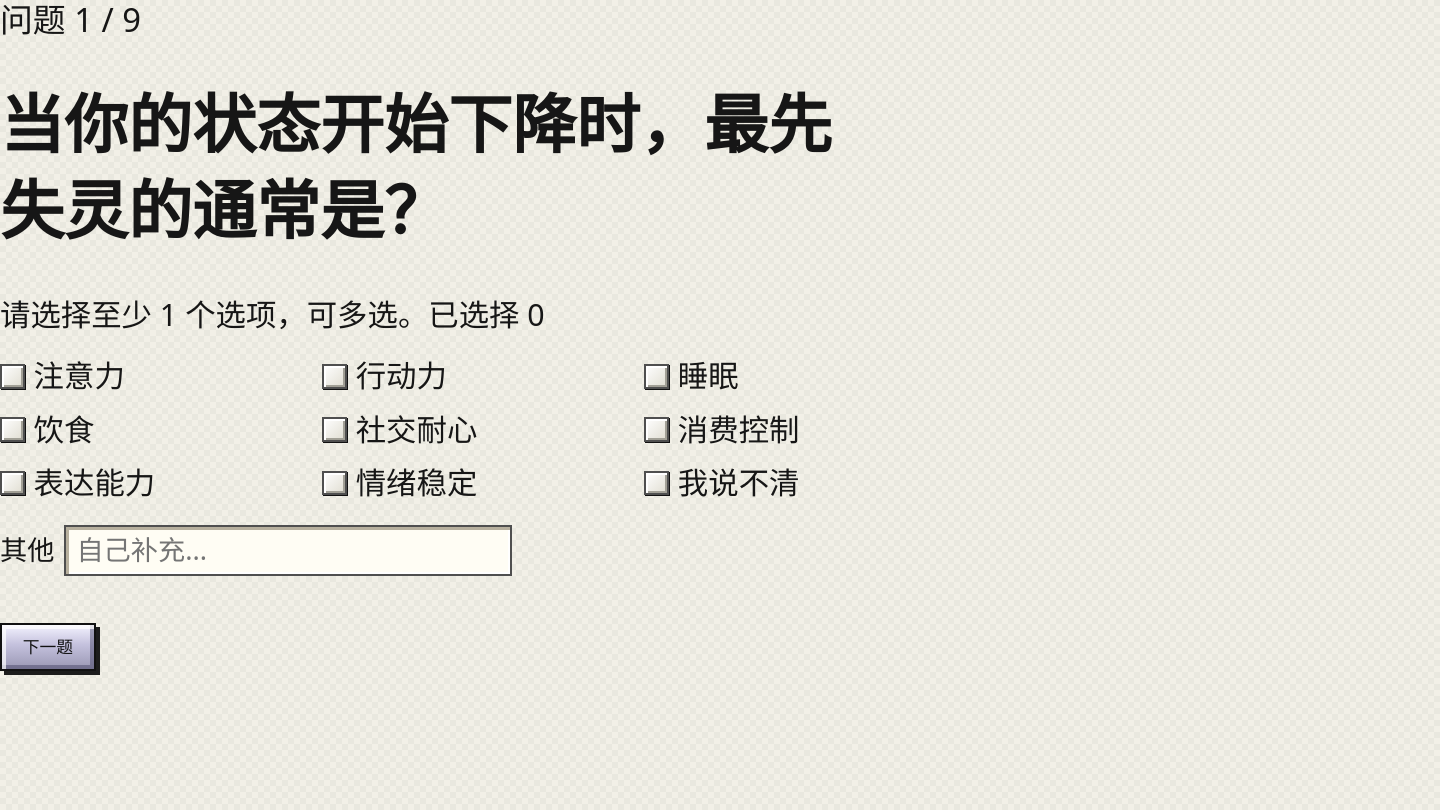
OnboardingFlow › supports moving forward and returning while preserving selected answers
Expected: the heading "当你的状态开始下降时，最先失灵的通常是？" is shown, 0,81 -> 832,252
Click the button "下一题" at (48, 648), box 0,624 -> 96,672
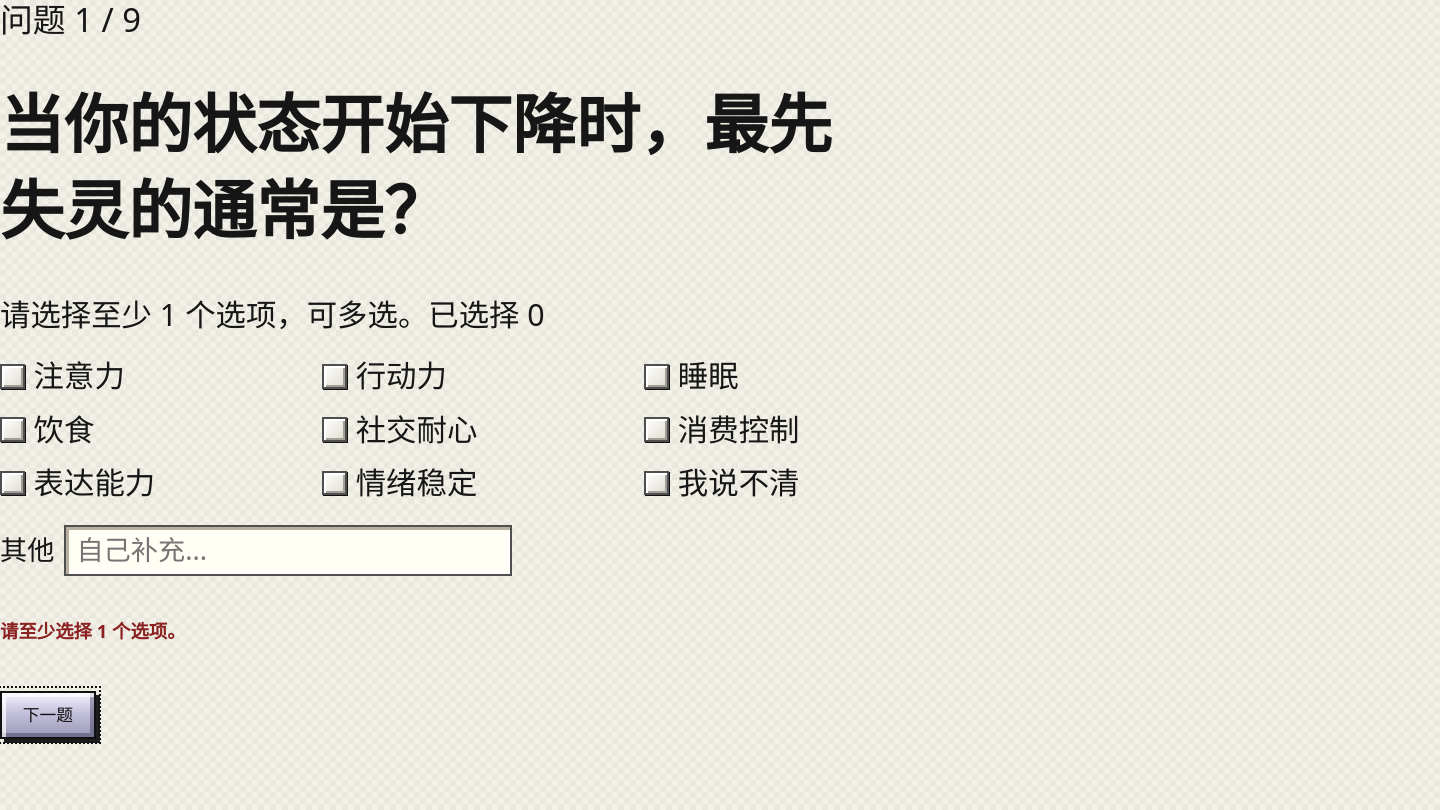
Expected: the text "请至少选择 1 个选项。" is shown, 0,618 -> 186,643
Click the checkbox labelled "注意力" at (12, 376), box 0,364 -> 25,389
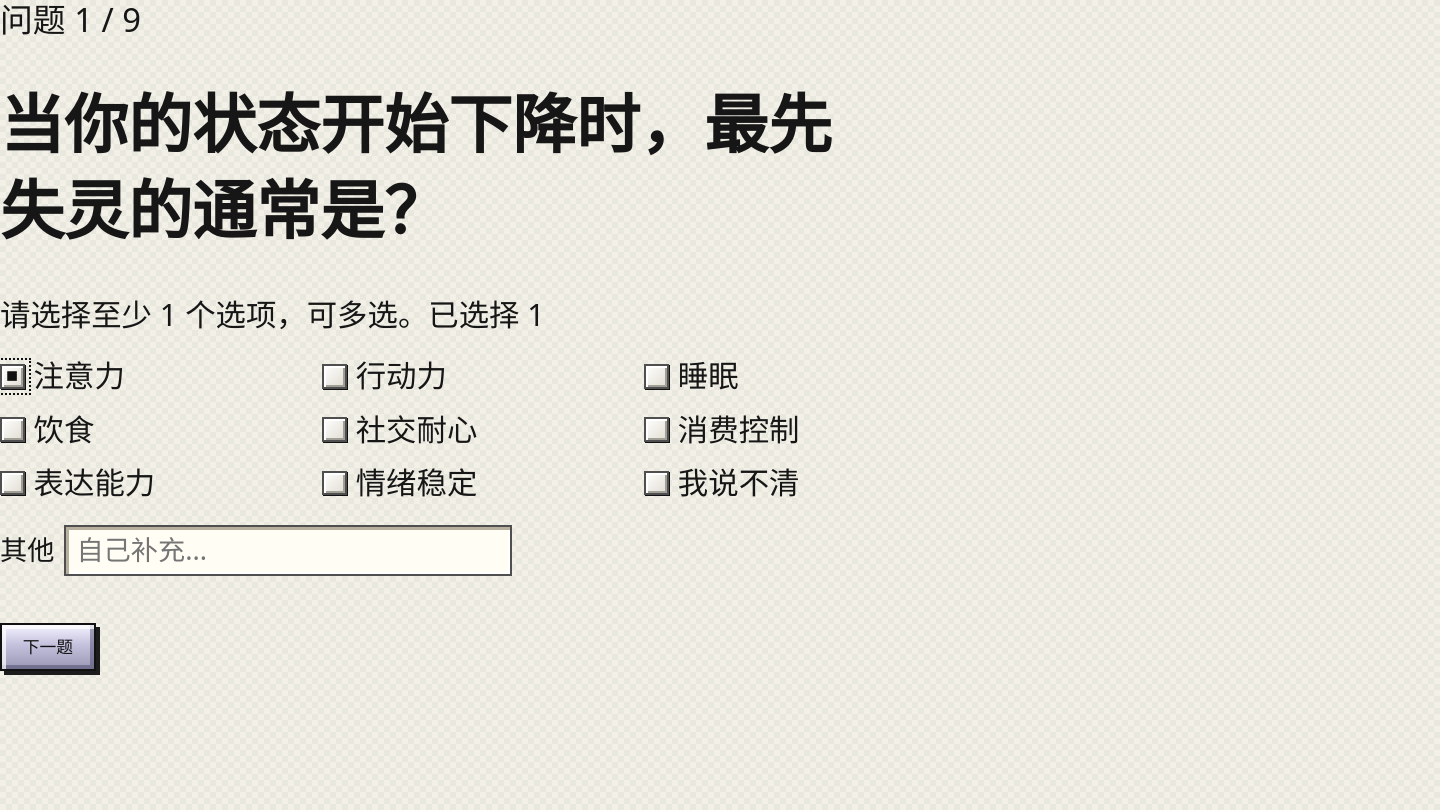
Click the button "下一题" at (48, 648), box 0,624 -> 96,672
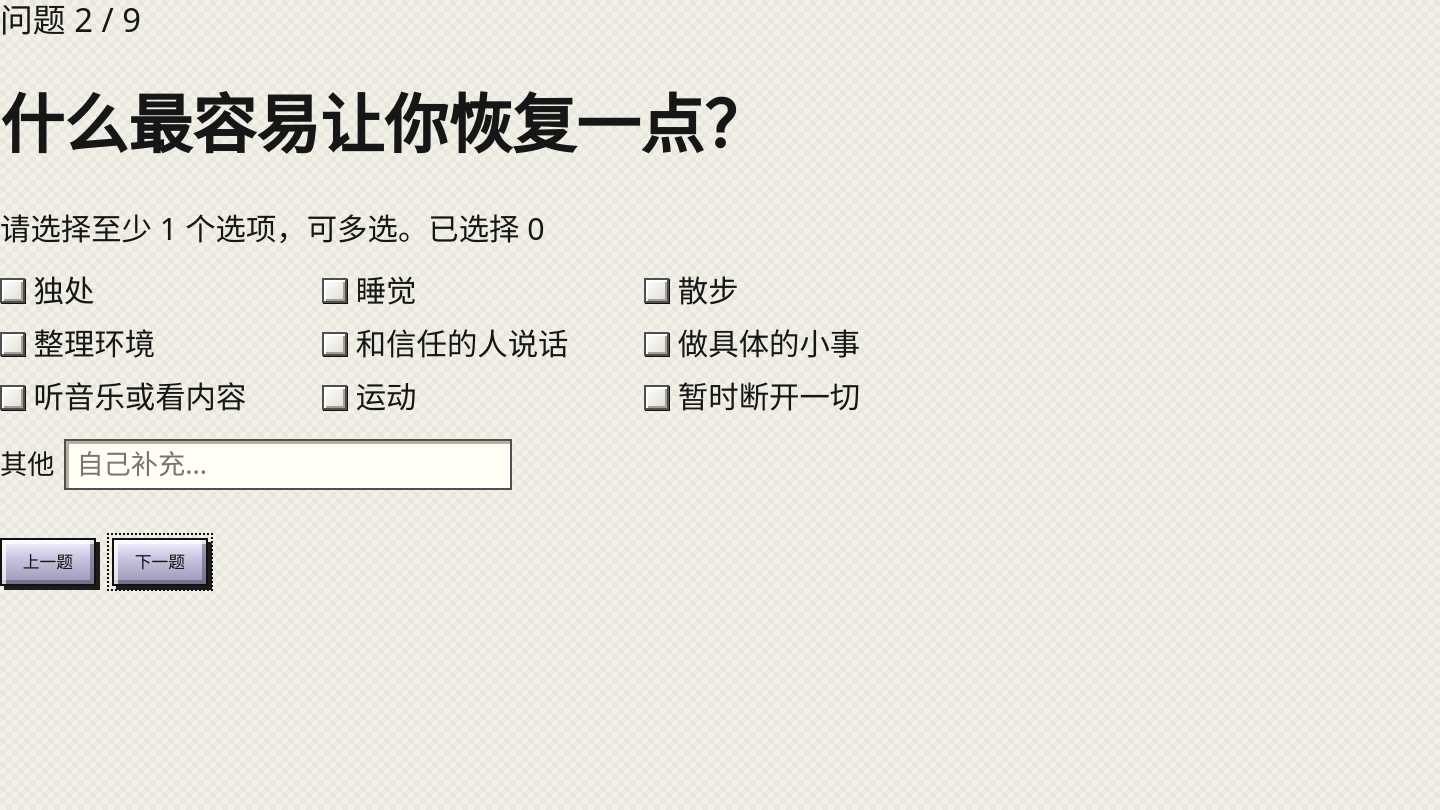
Expected: the heading "什么最容易让你恢复一点？" is shown, 0,81 -> 832,167
Click the button "上一题" at (48, 562), box 0,538 -> 96,586
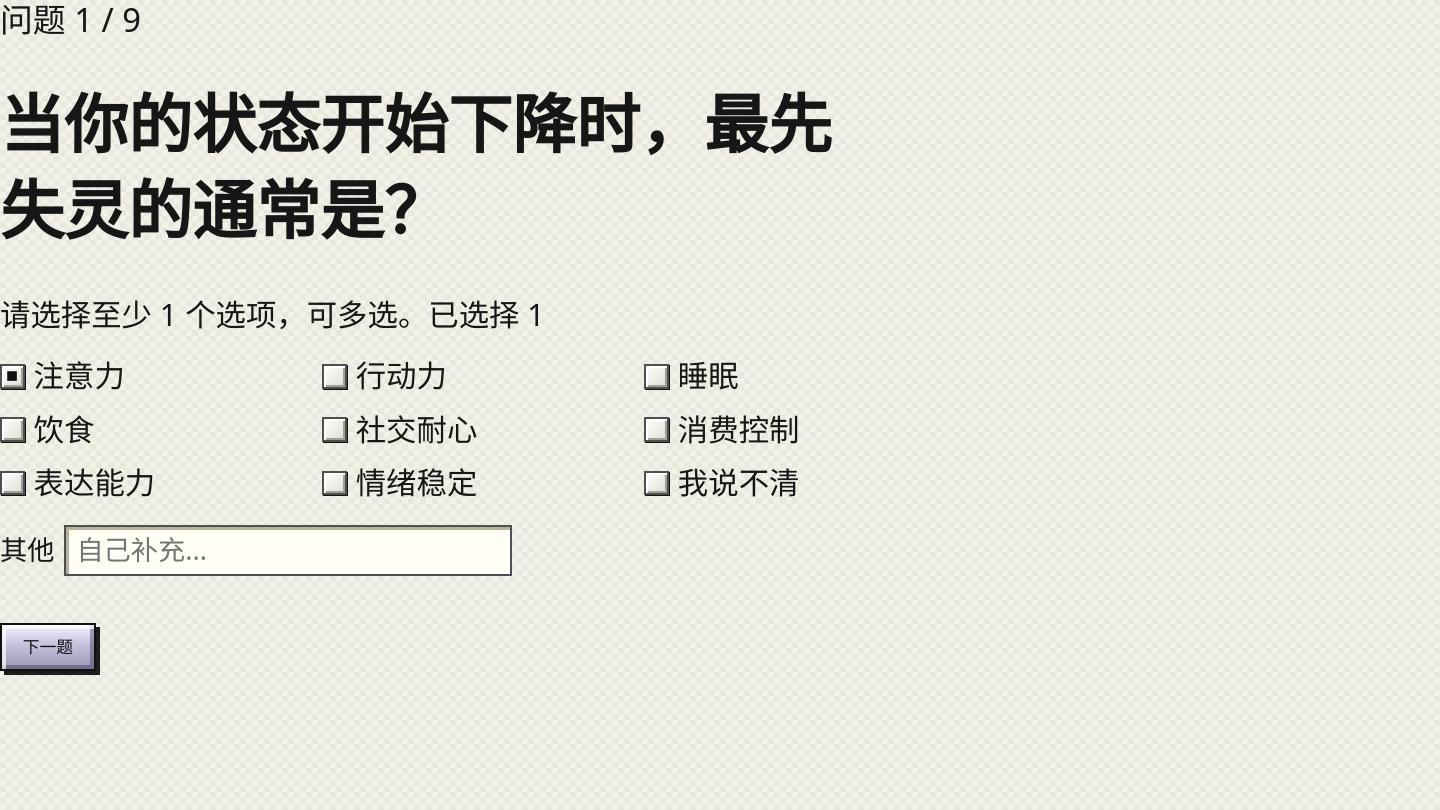
Expected: the checkbox labelled "注意力" is checked, 0,364 -> 25,389
